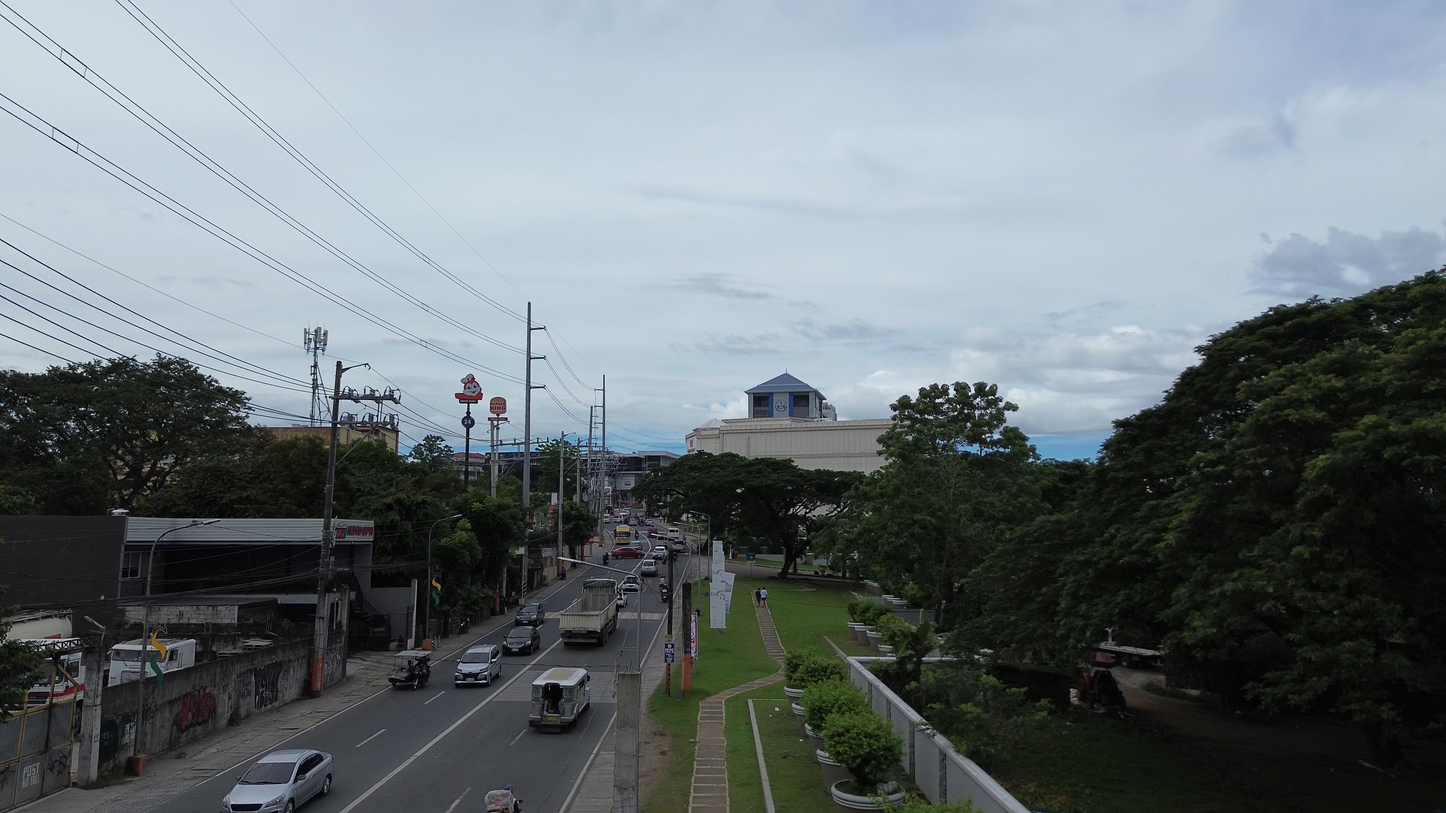bus: (614, 525, 633, 545)
car: (502, 627, 541, 654), (514, 603, 545, 626), (613, 546, 644, 559), (672, 540, 689, 553), (616, 589, 627, 608)
truck: (559, 578, 617, 644)
vehicle: (222, 749, 331, 813), (529, 667, 590, 730), (454, 644, 500, 686), (145, 638, 195, 672), (388, 650, 431, 689), (484, 786, 522, 813), (614, 524, 633, 545), (621, 575, 641, 592), (640, 559, 658, 575), (651, 544, 668, 560), (616, 588, 627, 608)
